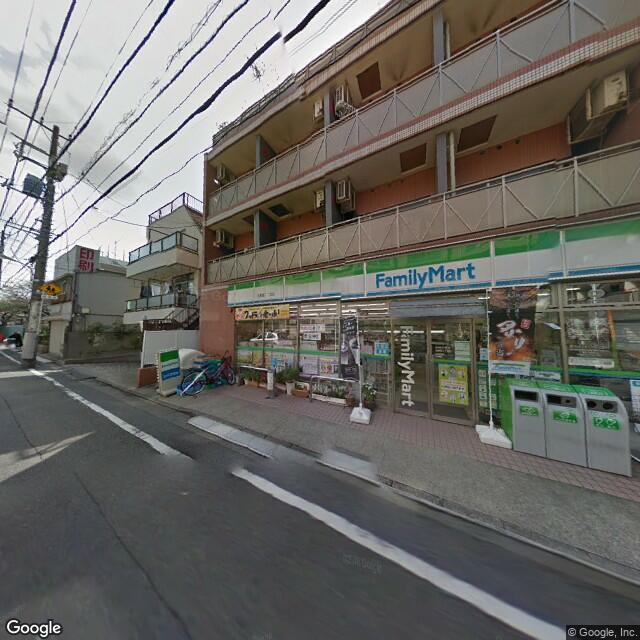family_mart: (226, 210, 639, 311), (374, 252, 480, 298), (156, 343, 185, 382)
